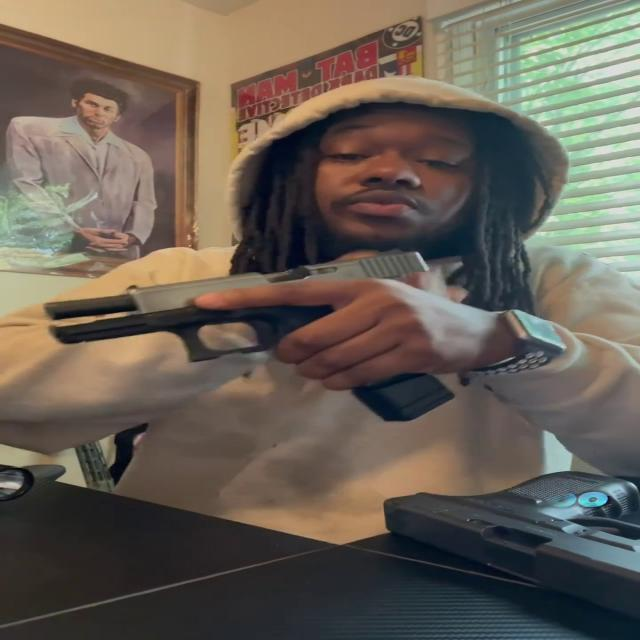Handgun: (38, 241, 514, 429)
